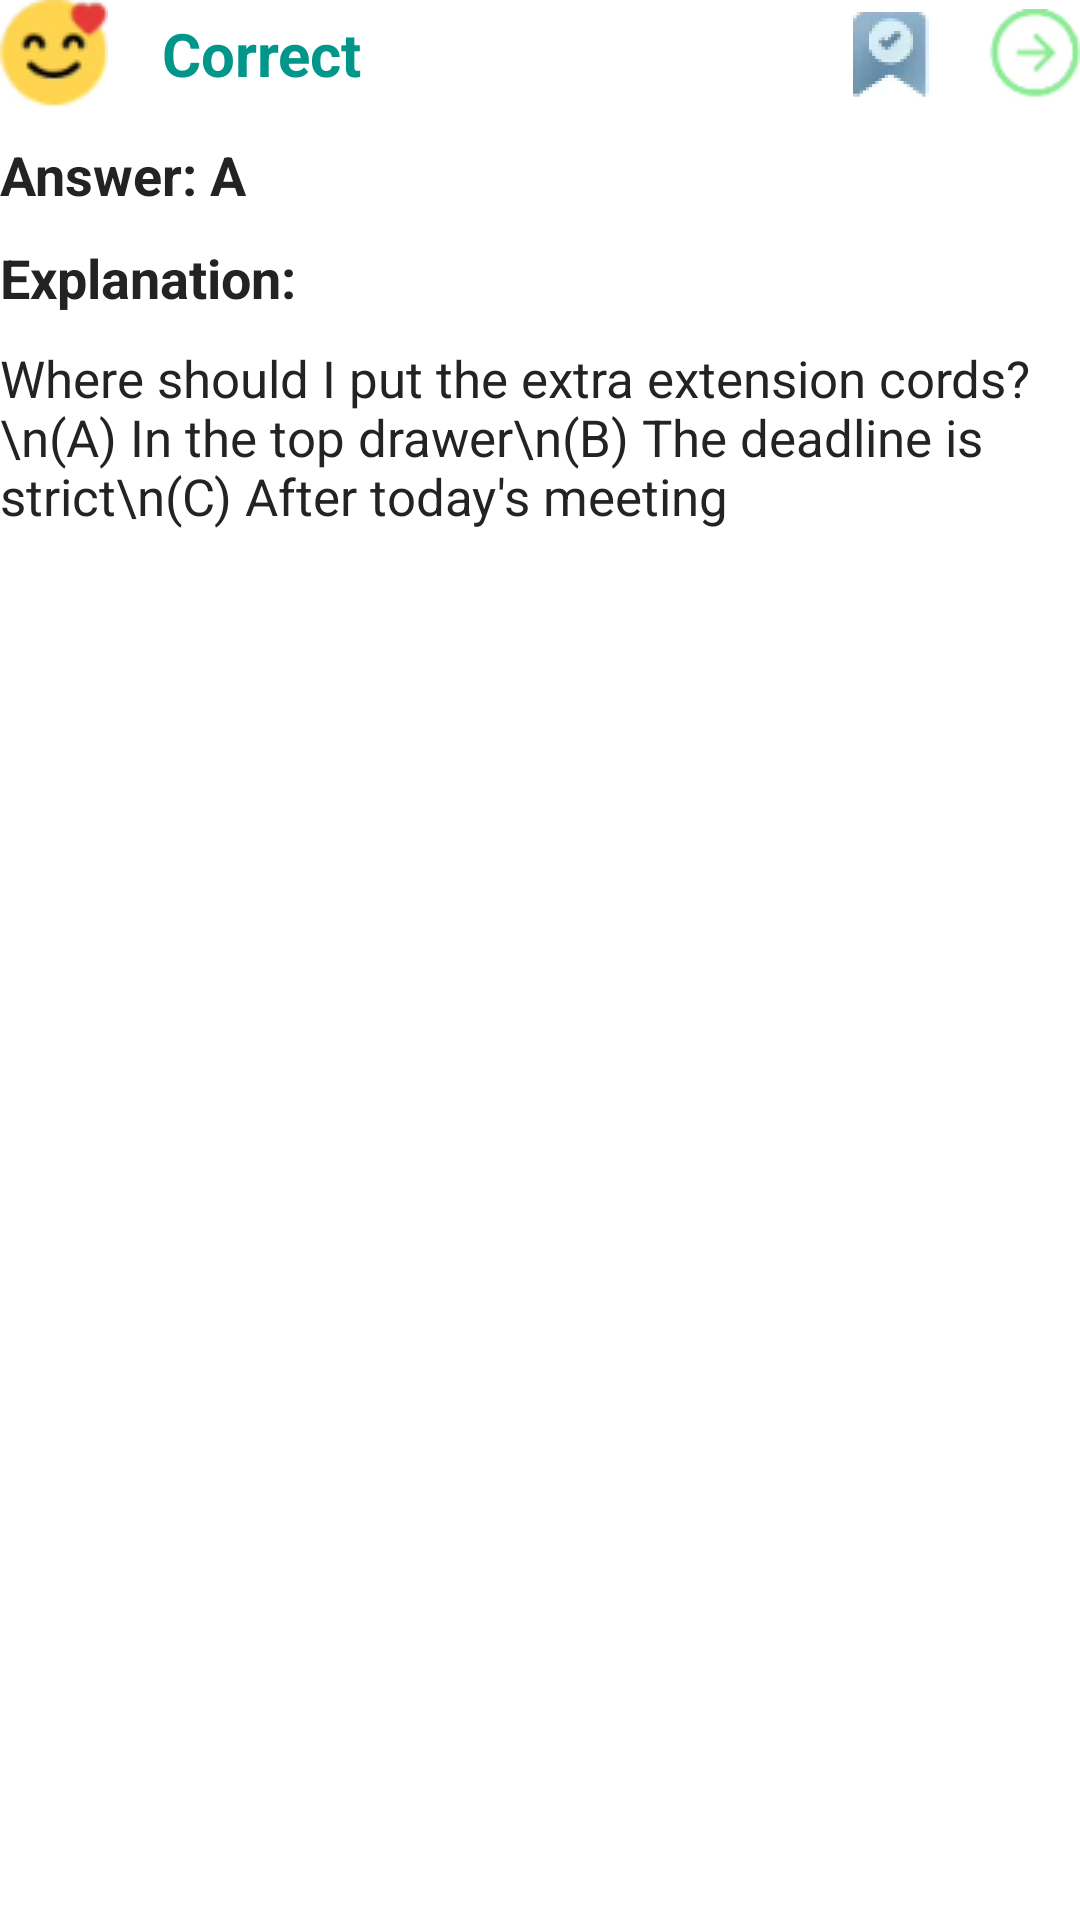

Icon bounding boxes for this 1080 x 1920 phone screenshot, format detection(x1, y1, x2, y2):
continue: detection(990, 9, 1080, 97)
hehe: detection(0, 0, 108, 106)
mark: detection(853, 12, 929, 97)
